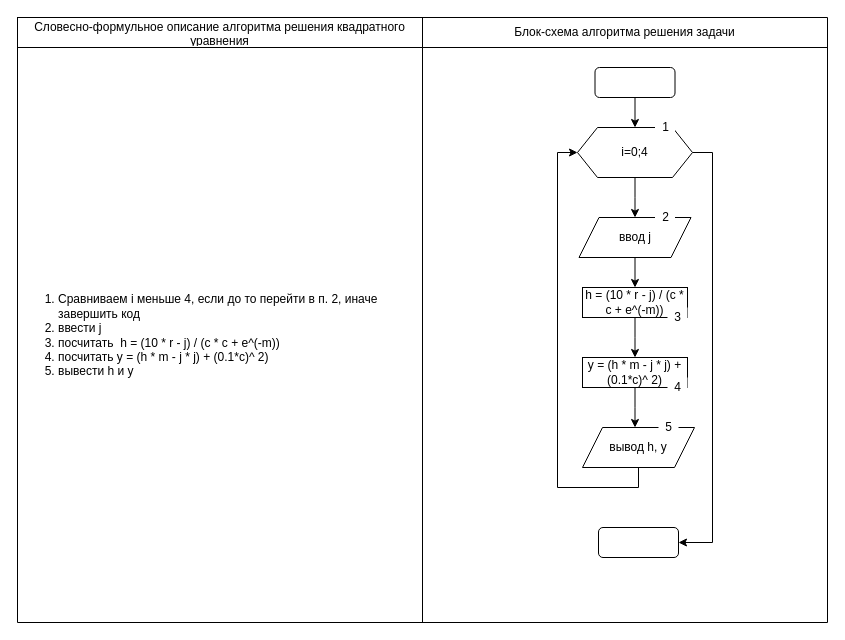
Some shapes in this 845 by 640 pixel diagram are drawn without their labels. The centre of each missing label's shape, as x and y in pixels:
"конец" belongs at (638,542).
"начало" belongs at (634,82).
